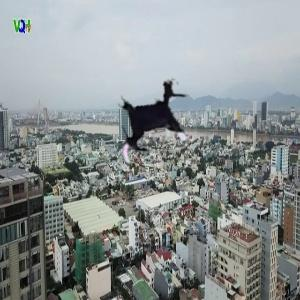drone: (104, 73, 208, 177)
